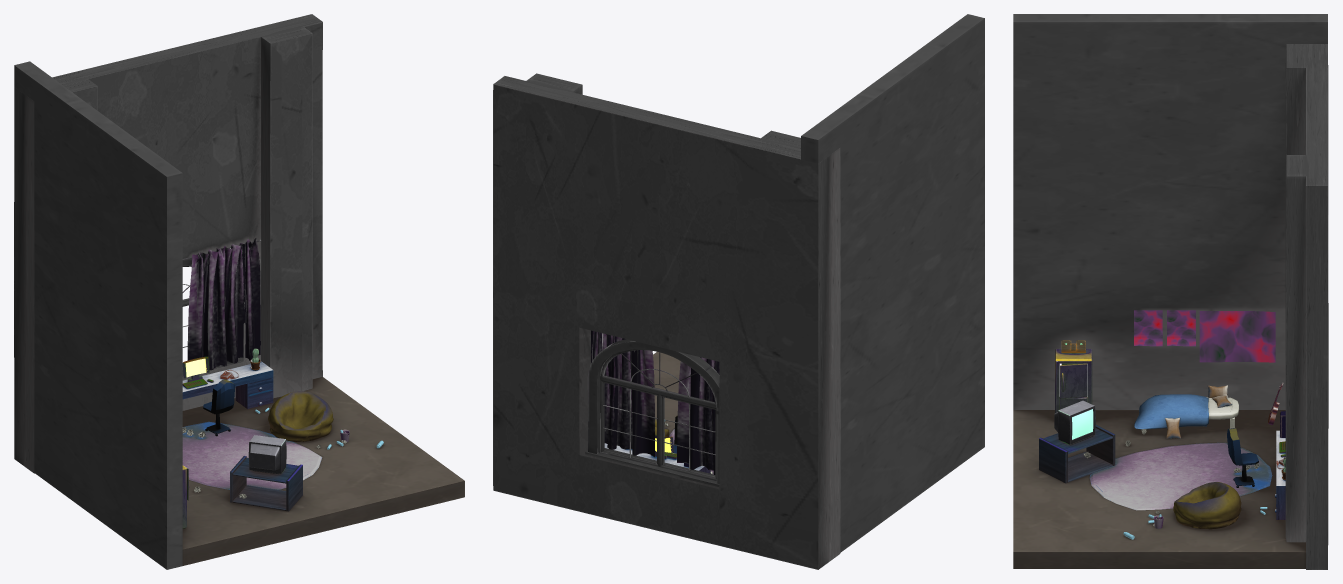
The model's file is oda.fbx.
The picture shows the model from 3 angles, left to right: view 1: azimuth 30°, elevation 25°; view 2: azimuth 150°, elevation 25°; view 3: azimuth 270°, elevation 25°; orthographic projection. The views are drawn at different scales.
Visible parts, largest first — view 1: Plane.001, Plane.004, Plane, CurtainBar02_low, halı, Puf, Televizyon_Unitesi, masa, TV, sandalye, mouse; view 2: Plane.004, Plane.001, CurtainBar02_low, Plane; view 3: Plane.001, Plane, Plane.004, halı, Paper.001, Televizyon_Unitesi, Puf, yorgan, buzdolabı, TV, Paper, Paper.002 (+3 smaller).
Boxes of the visible parts, x1=… form: Plane.001: x1=14, y1=61, x2=182, y2=569; Plane.004: x1=14, y1=14, x2=322, y2=473; Plane: x1=182, y1=377, x2=464, y2=565; CurtainBar02_low: x1=182, y1=238, x2=261, y2=376; halı: x1=182, y1=421, x2=322, y2=489; Puf: x1=268, y1=391, x2=333, y2=441; Televizyon_Unitesi: x1=230, y1=456, x2=302, y2=511; masa: x1=182, y1=361, x2=273, y2=409; TV: x1=248, y1=435, x2=286, y2=473; sandalye: x1=203, y1=379, x2=235, y2=436; mouse: x1=182, y1=356, x2=213, y2=388; Plane.004: x1=493, y1=73, x2=840, y2=569; Plane.001: x1=801, y1=14, x2=984, y2=552; CurtainBar02_low: x1=585, y1=330, x2=719, y2=486; Plane: x1=653, y1=351, x2=680, y2=434; Plane.001: x1=1013, y1=14, x2=1327, y2=409; Plane: x1=1013, y1=410, x2=1305, y2=568; Plane.004: x1=1285, y1=44, x2=1328, y2=569; halı: x1=1089, y1=442, x2=1272, y2=510; Paper.001: x1=1199, y1=311, x2=1275, y2=362; Televizyon_Unitesi: x1=1039, y1=425, x2=1115, y2=483; Puf: x1=1173, y1=482, x2=1241, y2=529; yorgan: x1=1134, y1=394, x2=1208, y2=429; buzdolabı: x1=1055, y1=348, x2=1092, y2=413; TV: x1=1054, y1=400, x2=1095, y2=445; Paper: x1=1167, y1=310, x2=1195, y2=346; Paper.002: x1=1134, y1=310, x2=1162, y2=346.
Size of the model in its own units: 2898 by 3661 by 2578.
